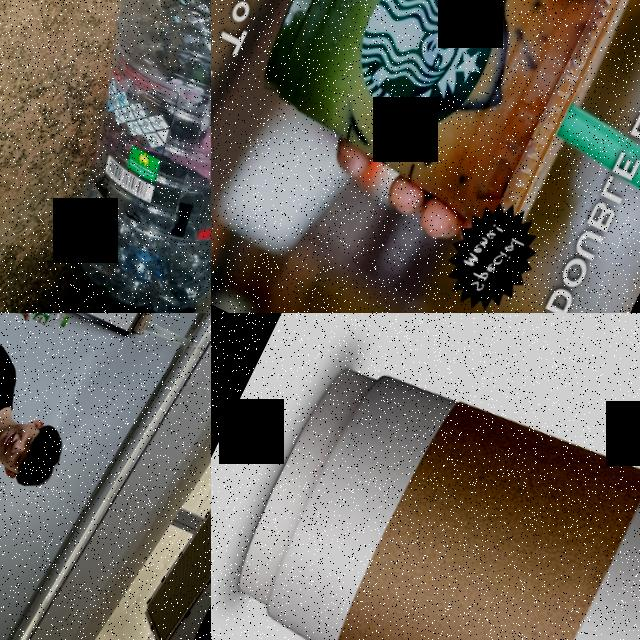bottle: (0, 0, 211, 313), (0, 313, 73, 336)
cup: (211, 313, 640, 640), (233, 0, 640, 244)
